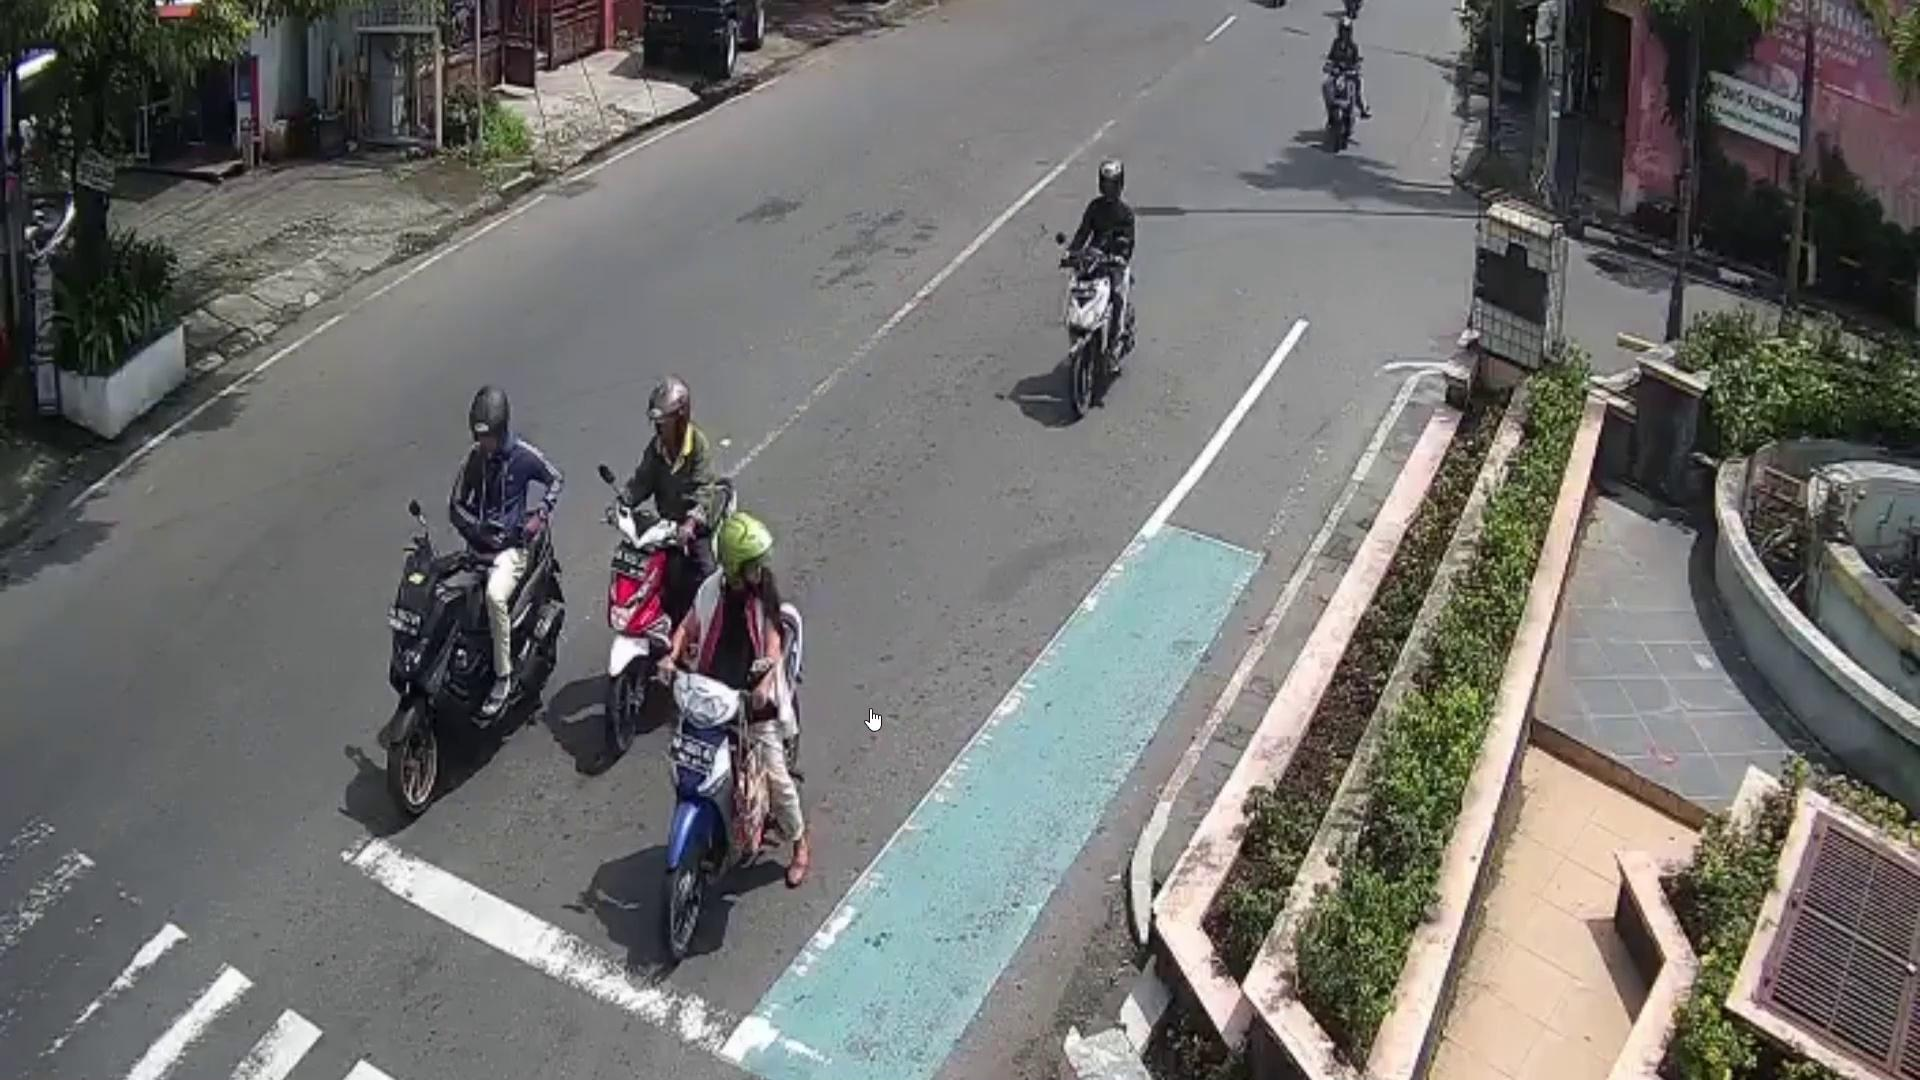motorbike: (646, 601, 807, 955), (385, 513, 559, 815), (609, 473, 738, 732), (1064, 244, 1134, 405), (1325, 62, 1357, 162)
